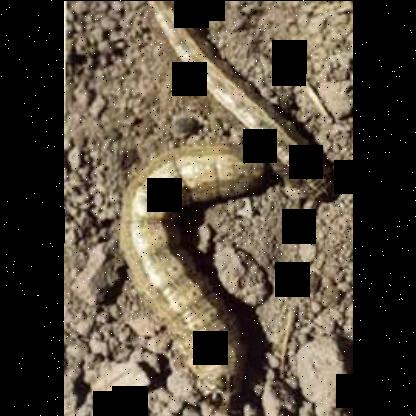oruga: (150, 0, 342, 214), (112, 129, 264, 393)
